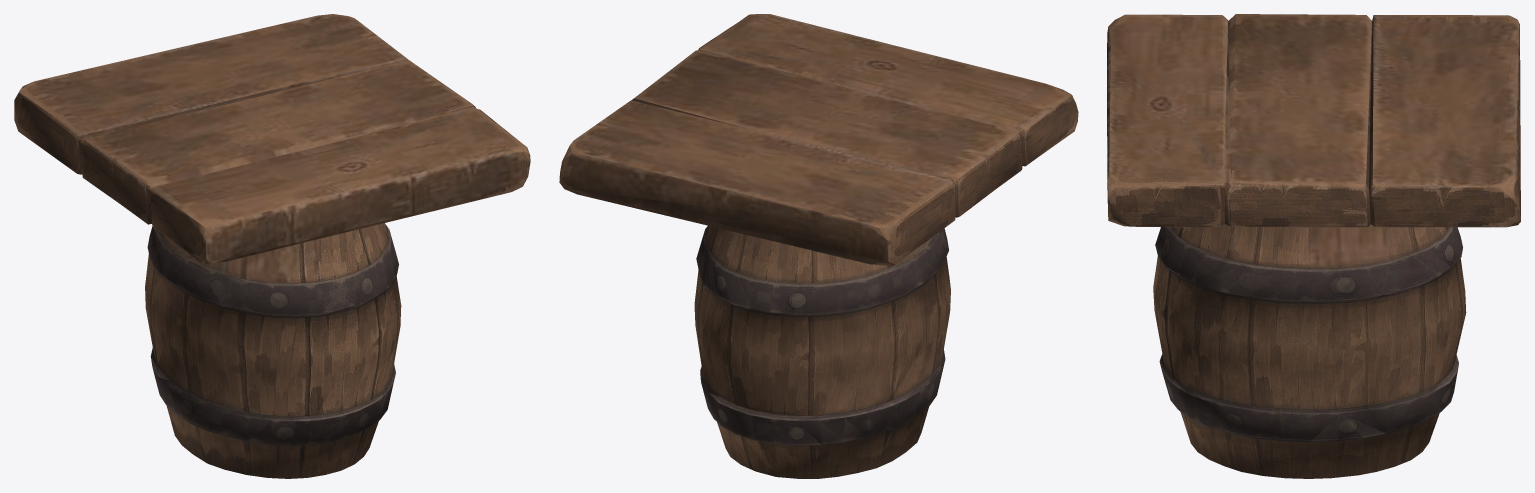
Rendered from pub-table.glb.
3 views of the same model, side by side, from view 1: azimuth 30°, elevation 25°; view 2: azimuth 150°, elevation 25°; view 3: azimuth 270°, elevation 25° (orthographic). The views are drawn at different scales.
Visible parts, largest first — view 1: GLTF; view 2: GLTF; view 3: GLTF.
Part boxes in pixels (left/top/right/bottom): GLTF: left=14, top=14, right=530, bottom=478; GLTF: left=559, top=14, right=1078, bottom=478; GLTF: left=1107, top=14, right=1520, bottom=478.
Size of the model in its own units: 0.83 by 0.76 by 0.84.
Materials: 1 (1 with a texture image).
